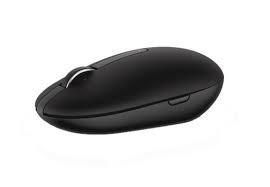mouse: (34, 42, 230, 145)
